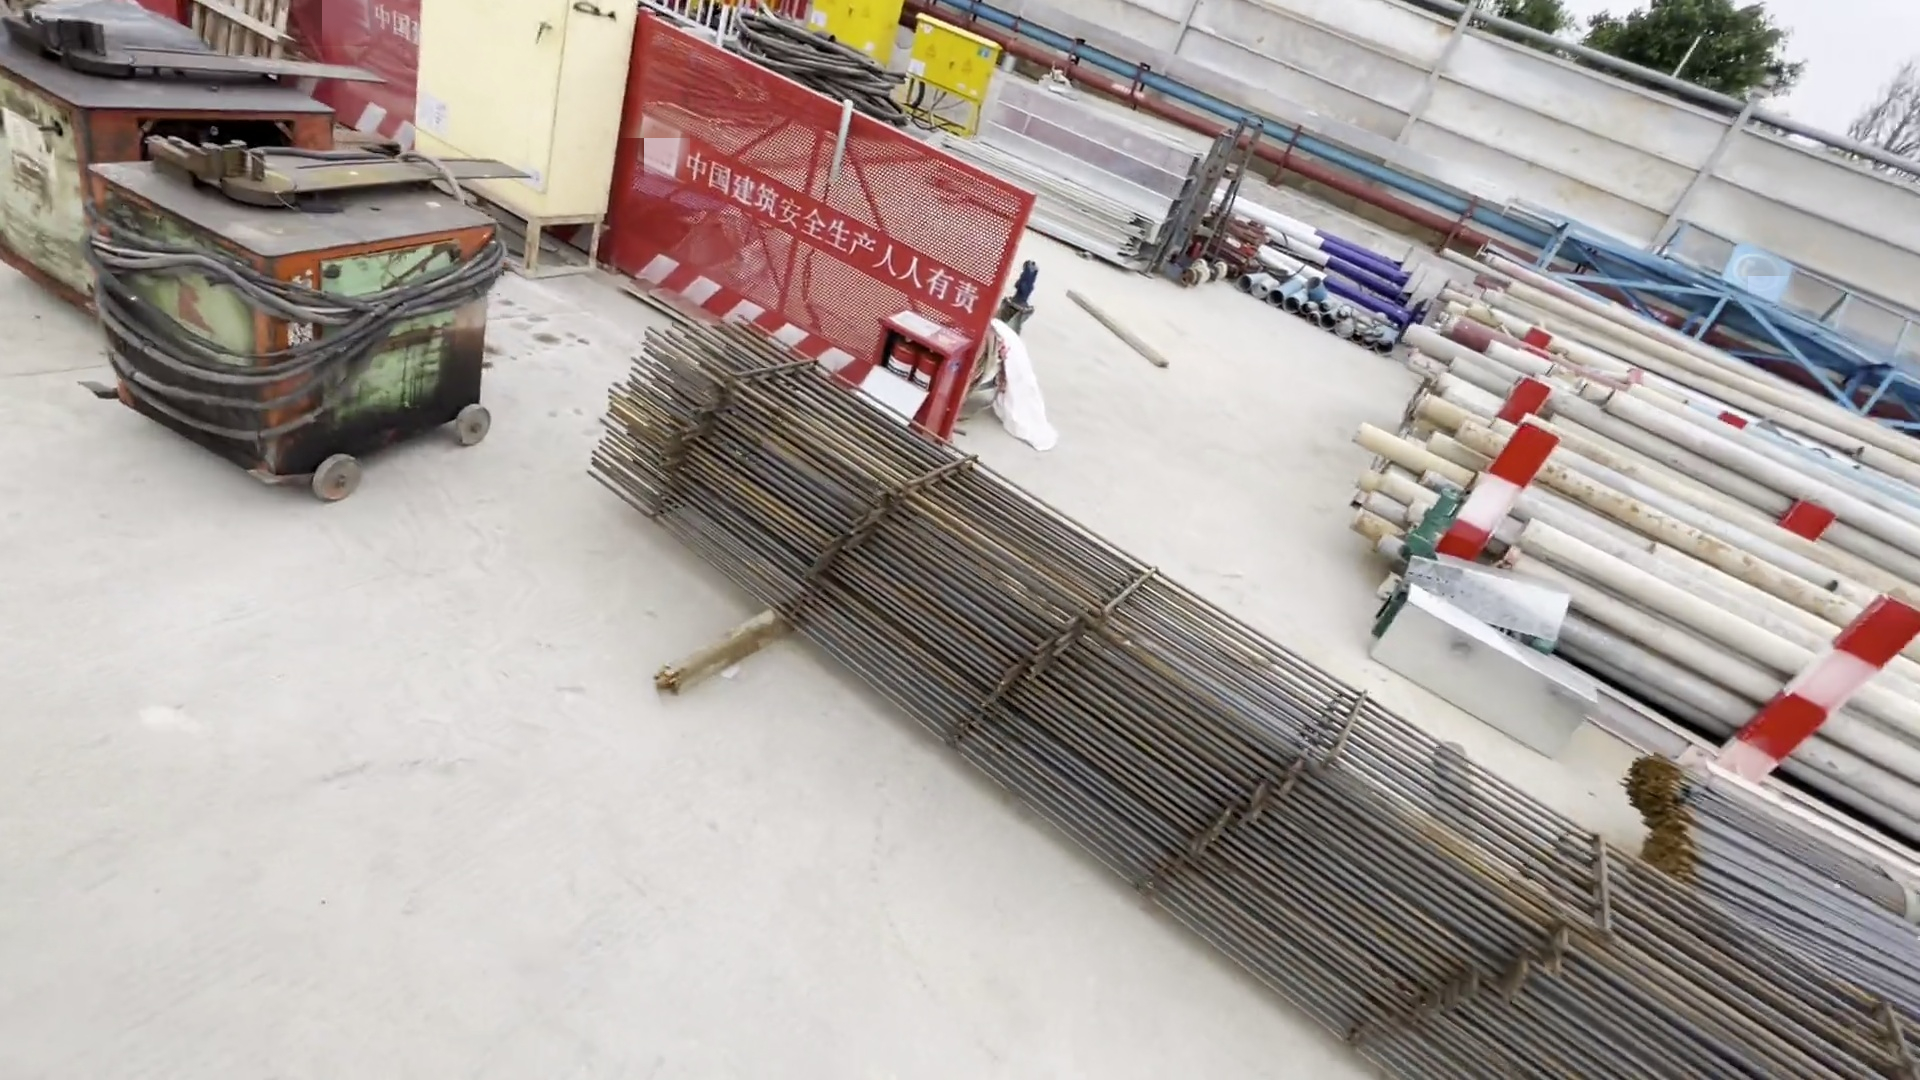ebox: (427, 1, 611, 290), (829, 1, 986, 117)
fence: (578, 21, 971, 425), (182, 1, 419, 146)
rebar: (585, 315, 1913, 1080), (1615, 756, 1920, 1002)
slogan: (659, 137, 981, 309)
